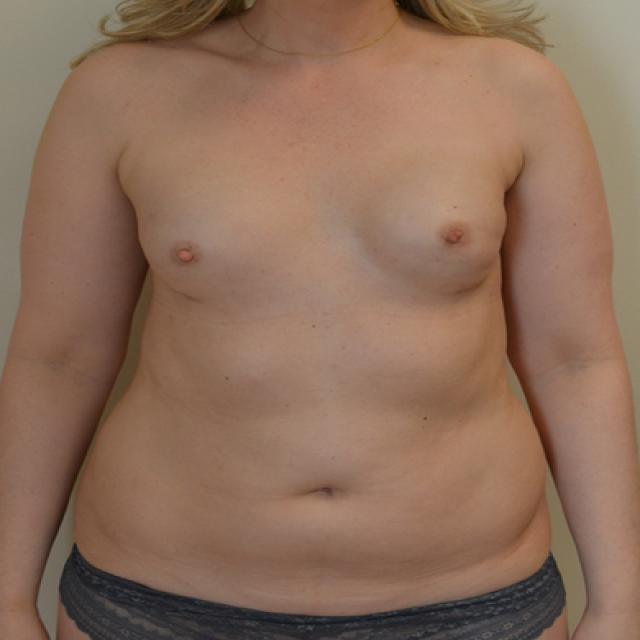Seno herido: (332, 160, 514, 314), (131, 160, 311, 314)
